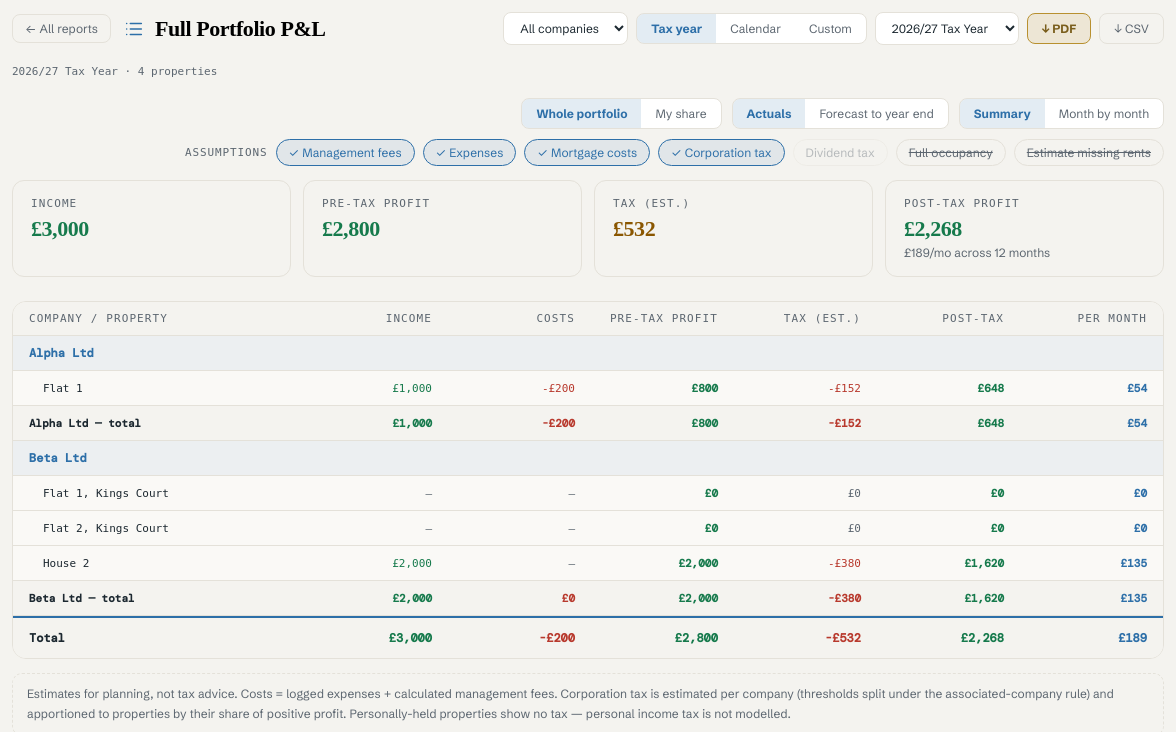
Test: Full Portfolio P&L report › forecasts to year end via the toggle, starring forecast months in the grid
Expected: the text "Alpha Ltd — total" is shown, [29,416,141,430]
Step 1. Click the button "Forecast to year end" → (877, 114), box [805,99,948,128]
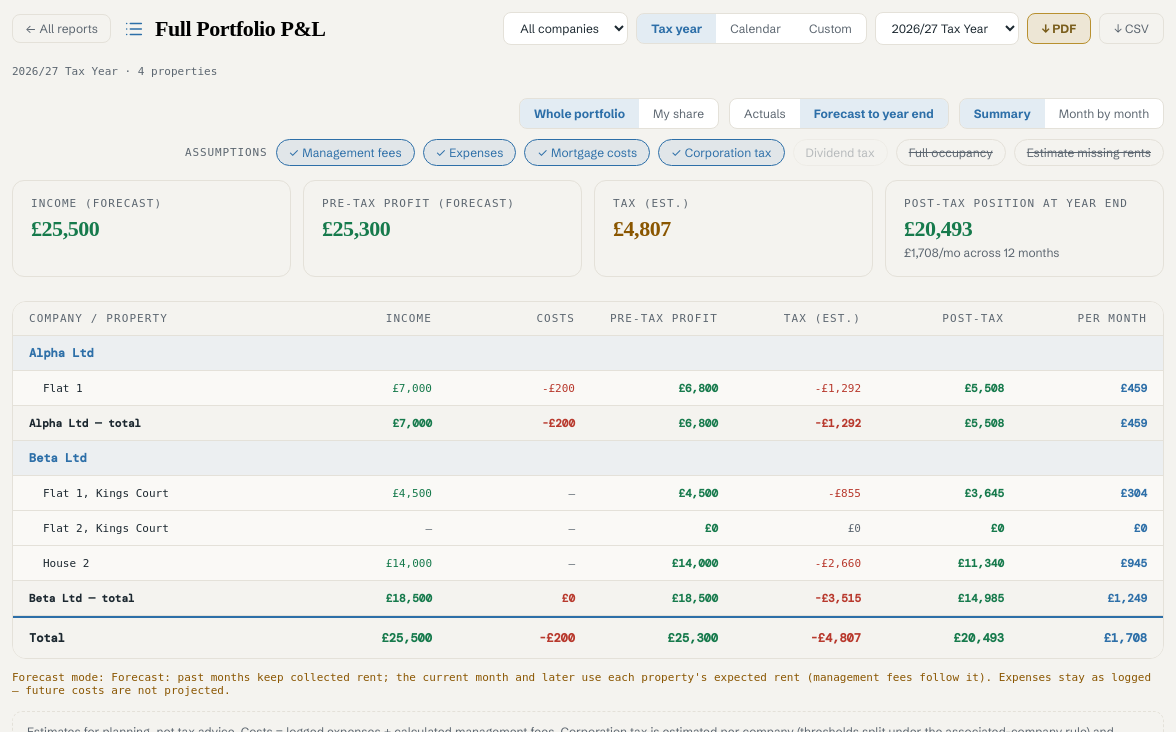
Now the text "Post-tax position at year end" is shown, box [904,197,1145,210]
Now the text "Forecast mode:" is shown, box [12,671,111,684]
Step 2. Click the button "Month by month" → (1104, 114), box [1045,99,1163,128]
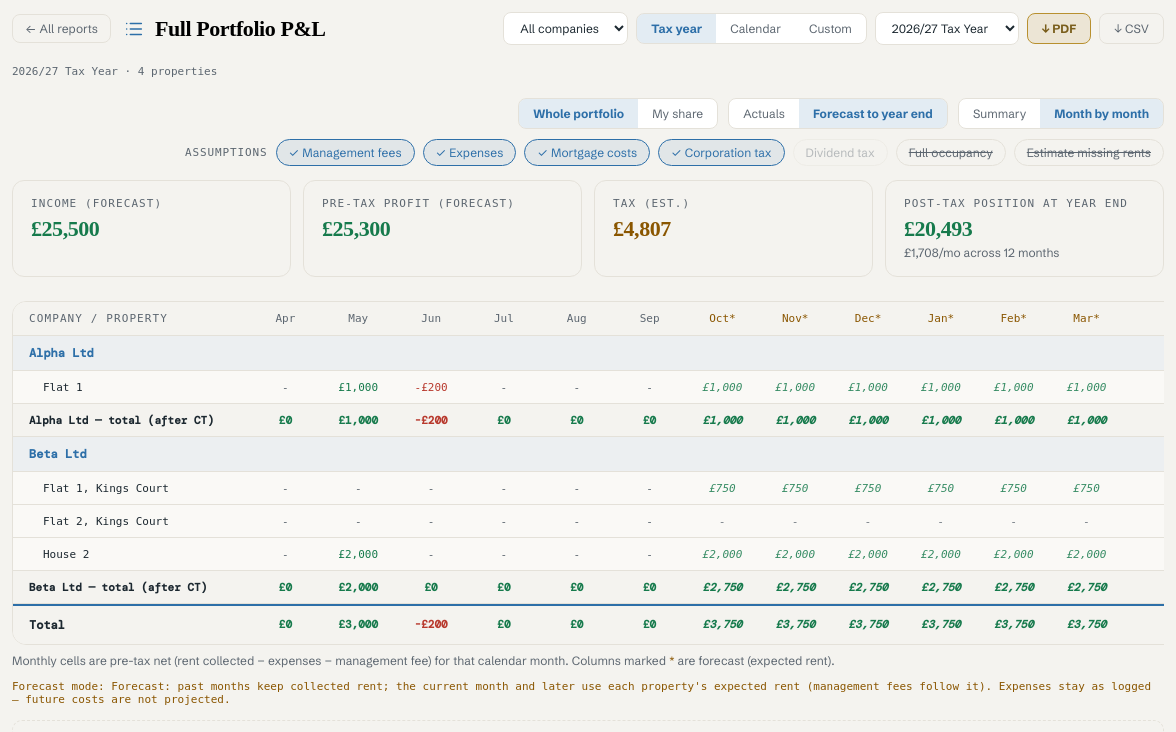
Now the text "Oct*" is shown, box [709,312,736,325]
Now the text "Columns marked" is shown, box [569,653,669,668]
# Toggling back to actuals removes the forecast card.
Step 3. Click the button "Actuals" → (764, 114), box [729,99,799,128]
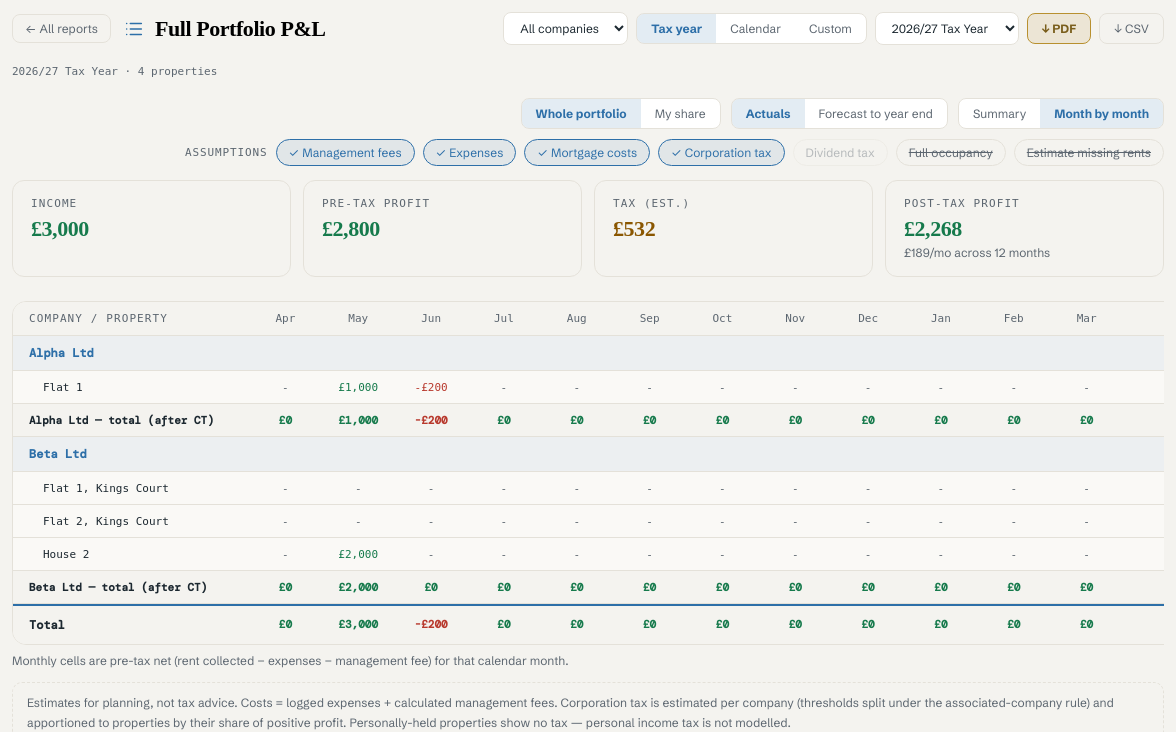
Now the text "Post-tax position at year end" is gone
